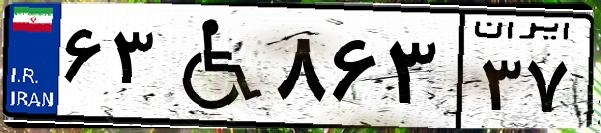3: (385, 28, 445, 110), (475, 38, 525, 113), (110, 28, 158, 98)
6: (330, 28, 385, 110), (57, 26, 110, 100)
7: (525, 38, 570, 115)
8: (270, 28, 330, 110)
ژ (معلولین و جانبازان): (158, 12, 270, 120)
